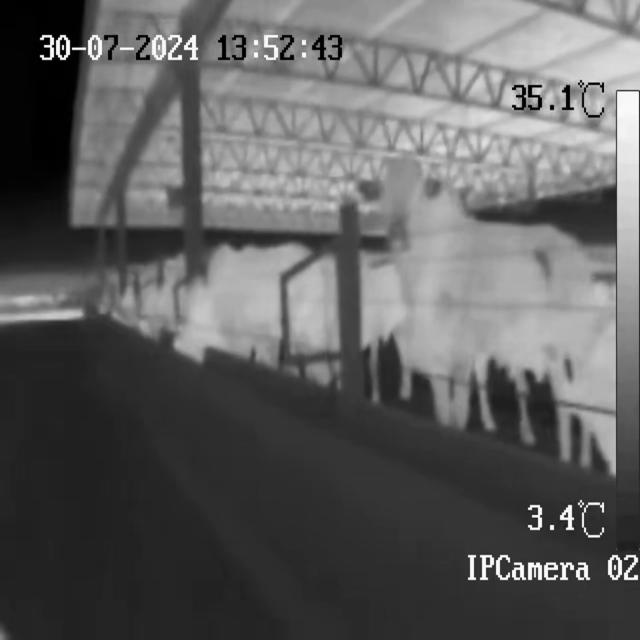head: (380, 152, 424, 255)
